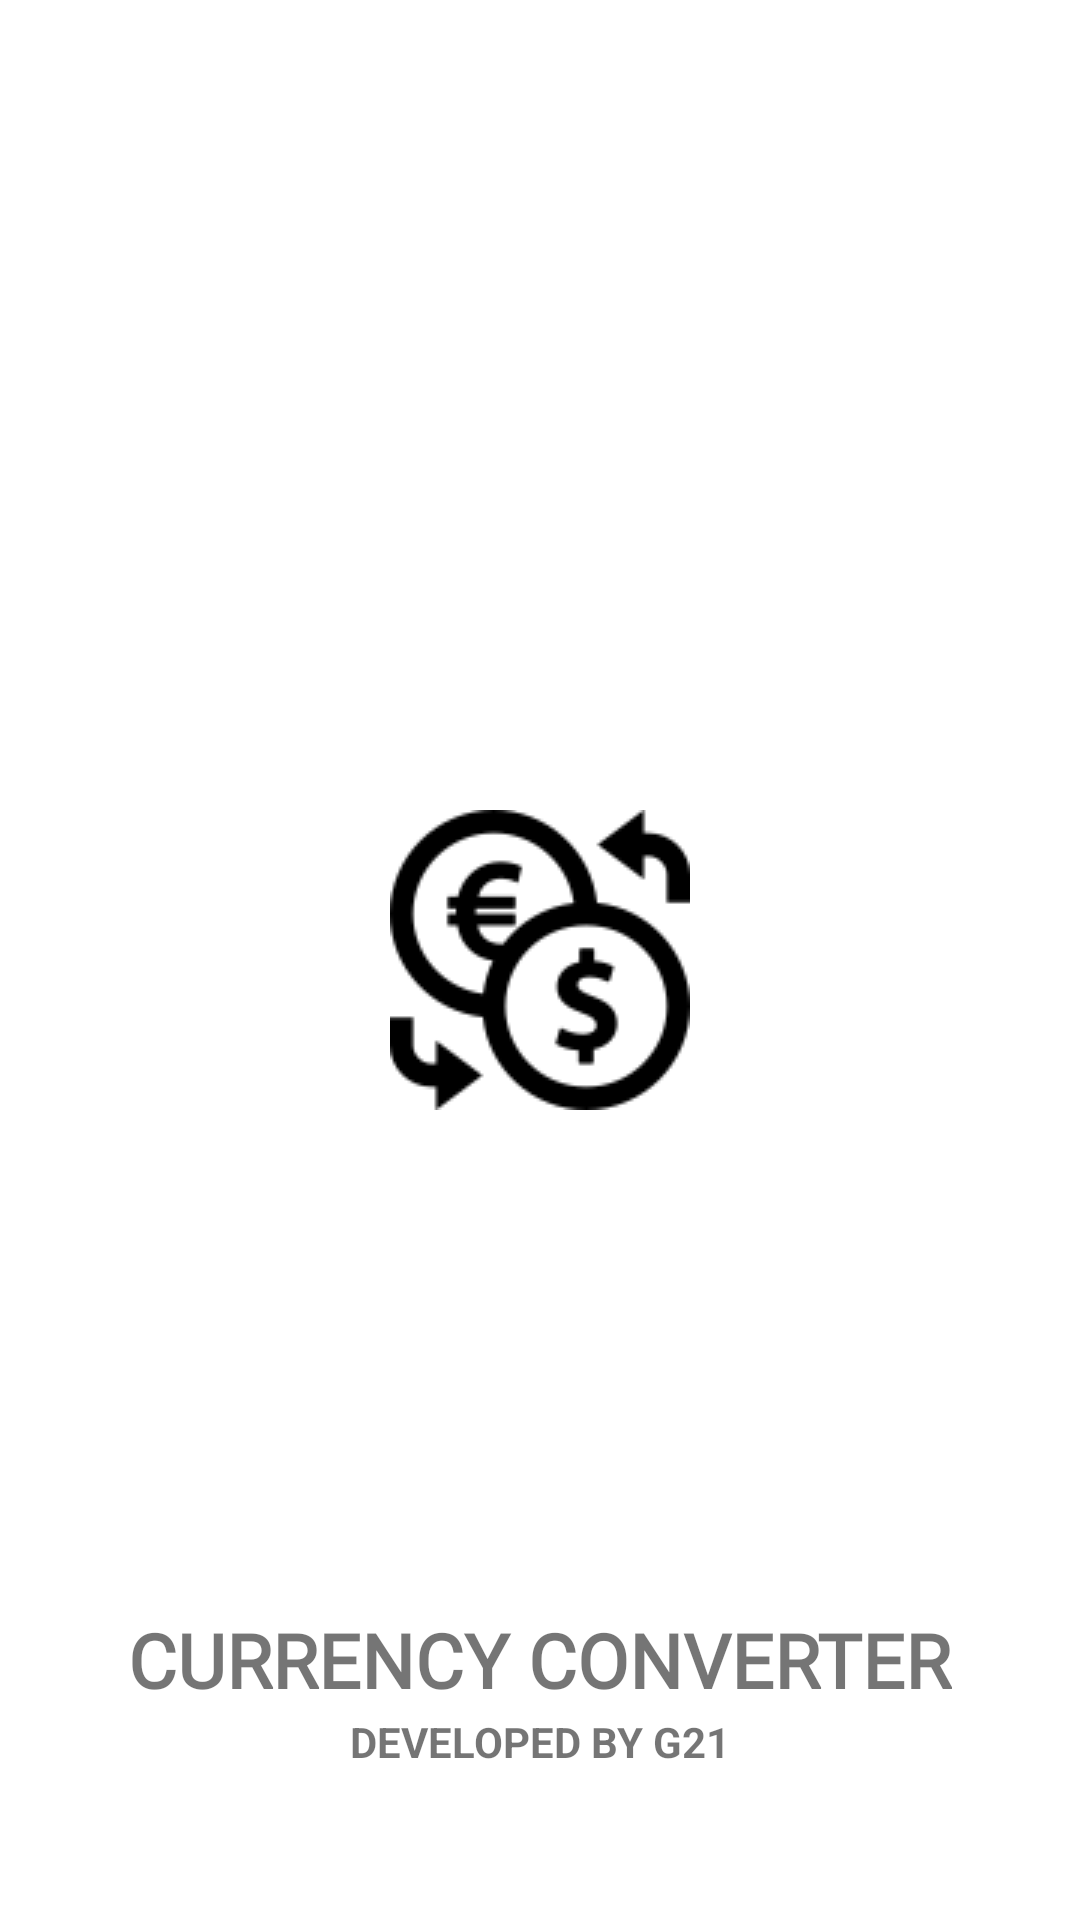

Named icons in this screenshot (1080x1920) and their centers, point (x, y):
currency exchange: point (540, 960)
